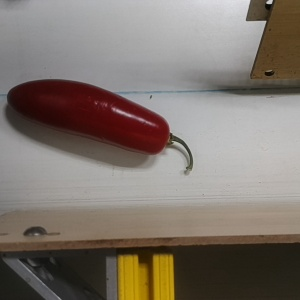Cut Point: (151, 111, 179, 158)
